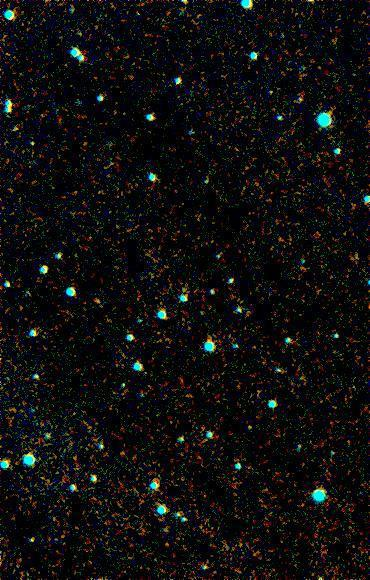star: (84, 288, 114, 318)
